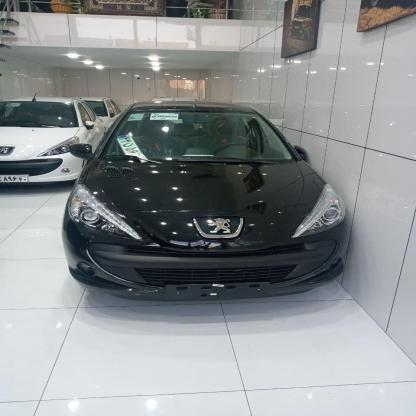Car: (56, 100, 346, 316), (0, 102, 96, 186), (56, 100, 139, 143)
